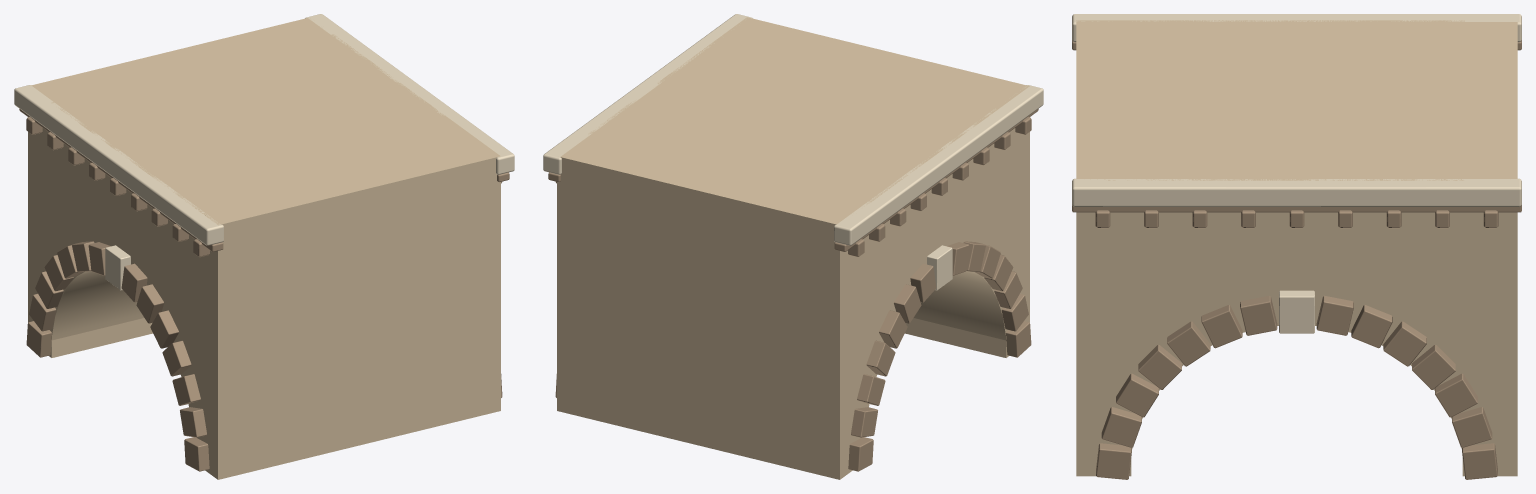
The model's file is rt_arch.glb.
3 views of the same model, side by side, from view 1: azimuth 30°, elevation 25°; view 2: azimuth 150°, elevation 25°; view 3: azimuth 270°, elevation 25° (orthographic). The views are drawn at different scales.
Visible parts, largest first — view 1: rt_arch_body; view 2: rt_arch_body; view 3: rt_arch_body.
Part boxes in pixels (box(x1,y1,x2,y2)): rt_arch_body: box(14, 14, 514, 479); rt_arch_body: box(543, 14, 1043, 479); rt_arch_body: box(1072, 14, 1521, 479).
Bounding box in the file's own units: 9.39 × 7.4 × 10.2.
